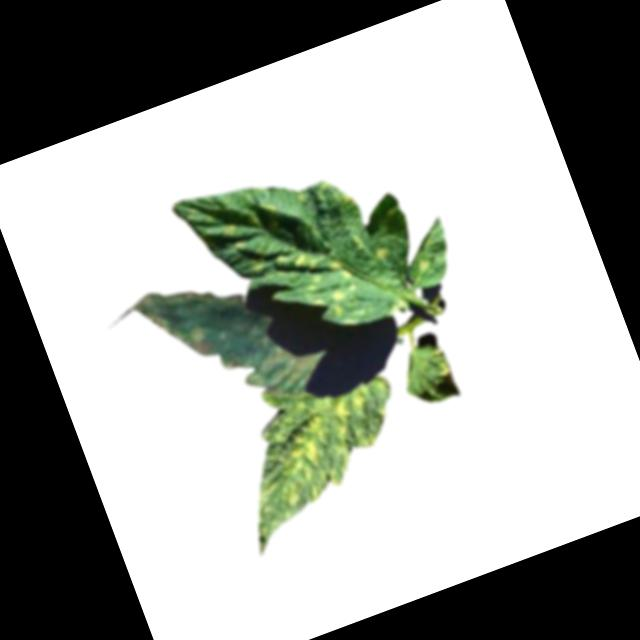Leaf_Mold: (186, 148, 391, 361), (214, 366, 428, 556), (132, 249, 321, 437), (370, 235, 402, 268), (412, 249, 436, 275)
